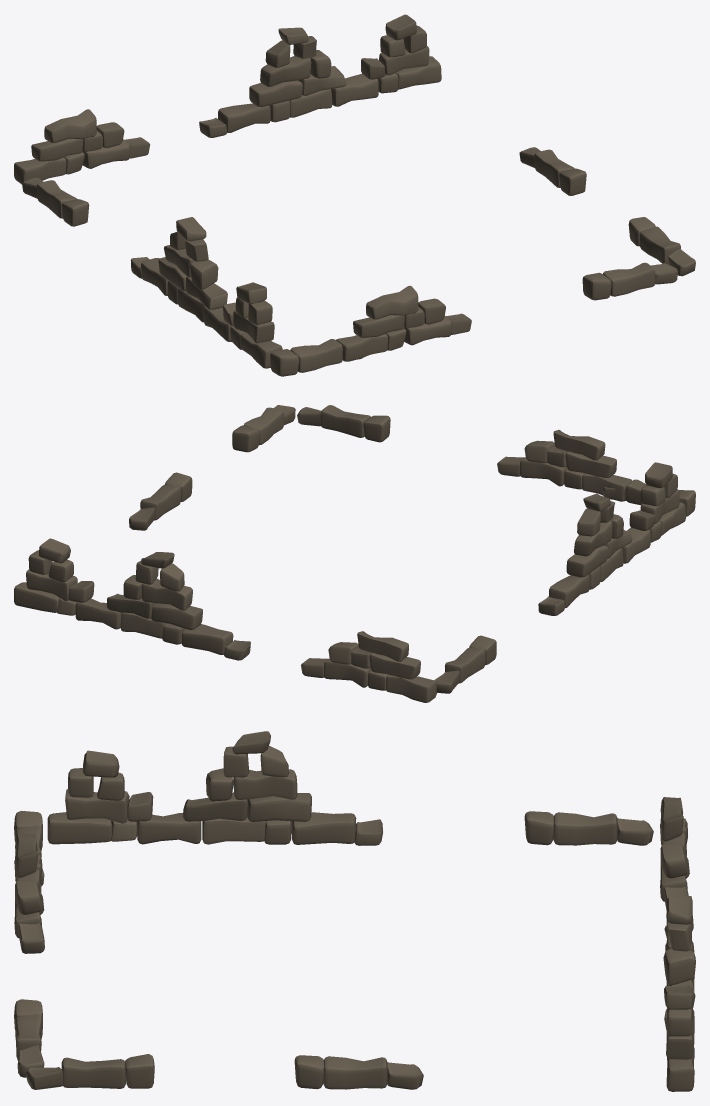
Rendered from broken house.fbx.
The picture shows the model from 3 angles, top to bottom: view 1: azimuth 30°, elevation 25°; view 2: azimuth 150°, elevation 25°; view 3: azimuth 270°, elevation 25°; orthographic projection. The views are drawn at different scales.
Visible parts, largest first — view 1: pCube135; view 2: pCube135; view 3: pCube135.
Part boxes in pixels (bbox=[...]): pCube135: bbox=[14, 14, 695, 376]; pCube135: bbox=[14, 405, 695, 702]; pCube135: bbox=[14, 731, 695, 1091].
Bounding box in the file's own units: 439 × 83.79 × 486.
